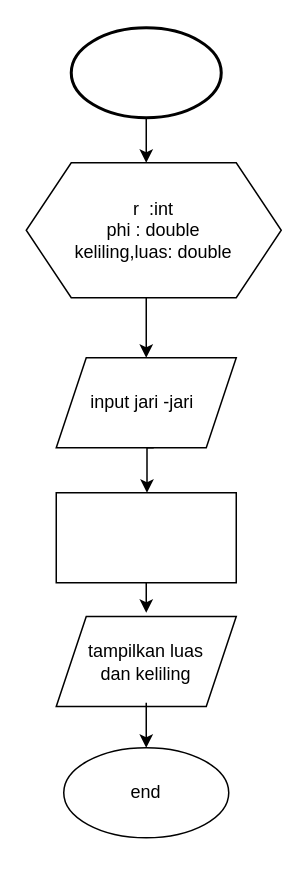
Some shapes in this 308 by 876 pixel diagram are drawn without their labels. Here are the shapes that lost their labels. From the top down, the box of each, then its label:
(69, 26, 222, 118): start
(55, 491, 236, 583): keliling =2*3.14*r luas= 3.14 *r*r
